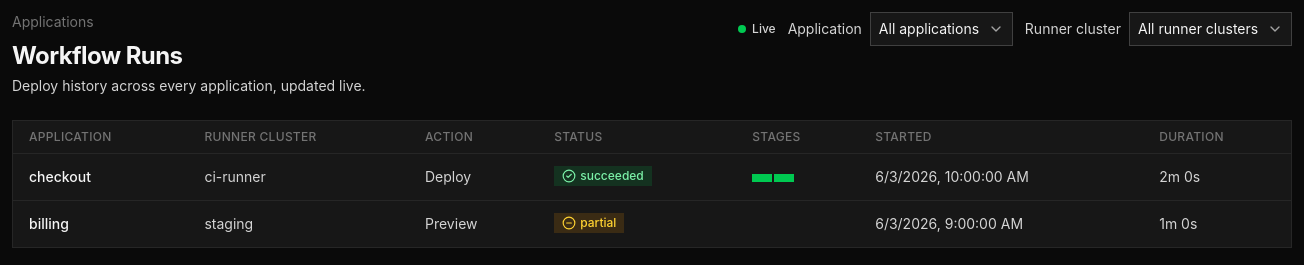
it: RunsIndex › filters by runner cluster
Step 1. Select "ci-runner" in the dropdown labelled "Runner cluster" → (1210, 29), box [1129,12,1292,46]
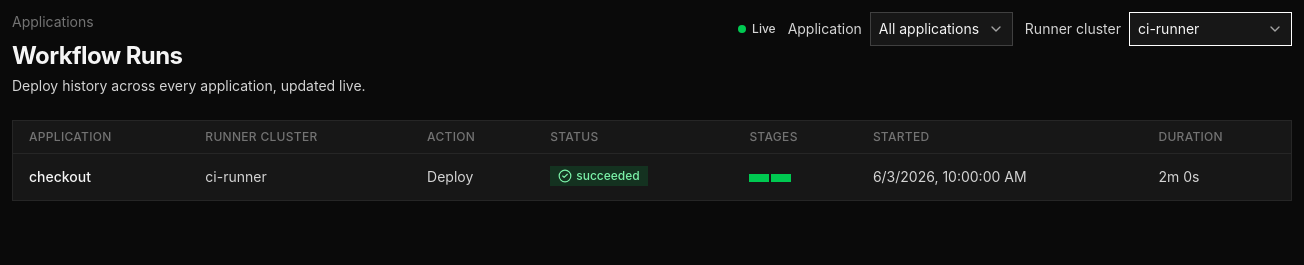
expect the text "checkout" is shown: met, box [13,154,189,200]
expect the text "billing" is gone: met
